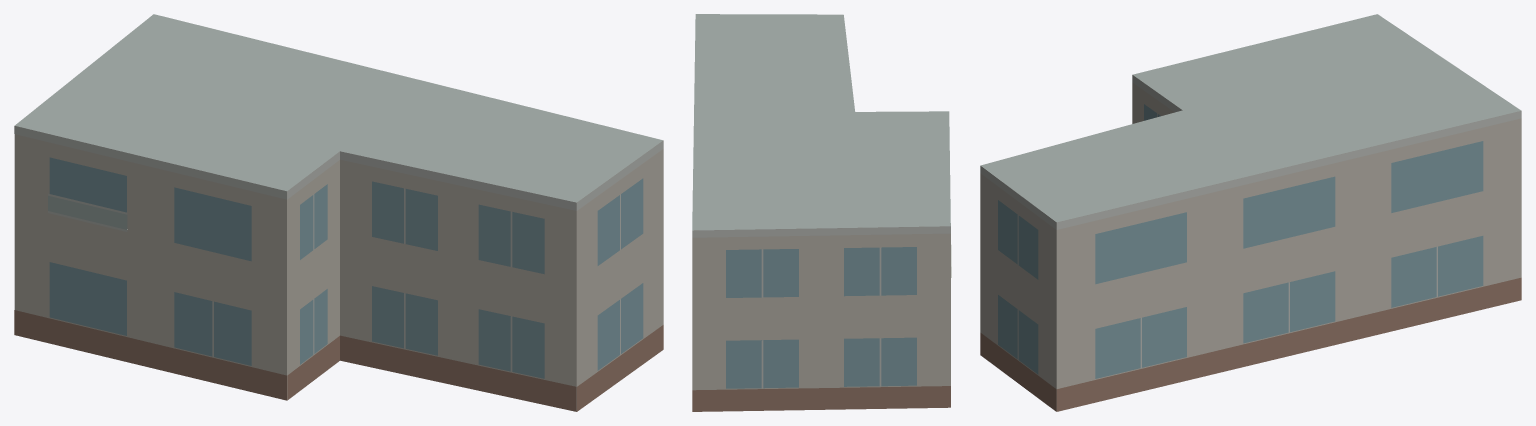
File: survey-upis-32766584.glb
The picture shows the model from 3 angles, left to right: view 1: azimuth 30°, elevation 25°; view 2: azimuth 150°, elevation 25°; view 3: azimuth 270°, elevation 25°; orthographic projection. The views are drawn at different scales.
Visible parts, largest first — view 1: survey-upis-32766584.tmp; view 2: survey-upis-32766584.tmp; view 3: survey-upis-32766584.tmp.
Part boxes in pixels (x1,y1,x2,y2): survey-upis-32766584.tmp: (14,14,663,411); survey-upis-32766584.tmp: (692,14,951,411); survey-upis-32766584.tmp: (980,14,1521,411).
Bounding box in the file's own units: 14.4 × 6.1 × 15.81.
